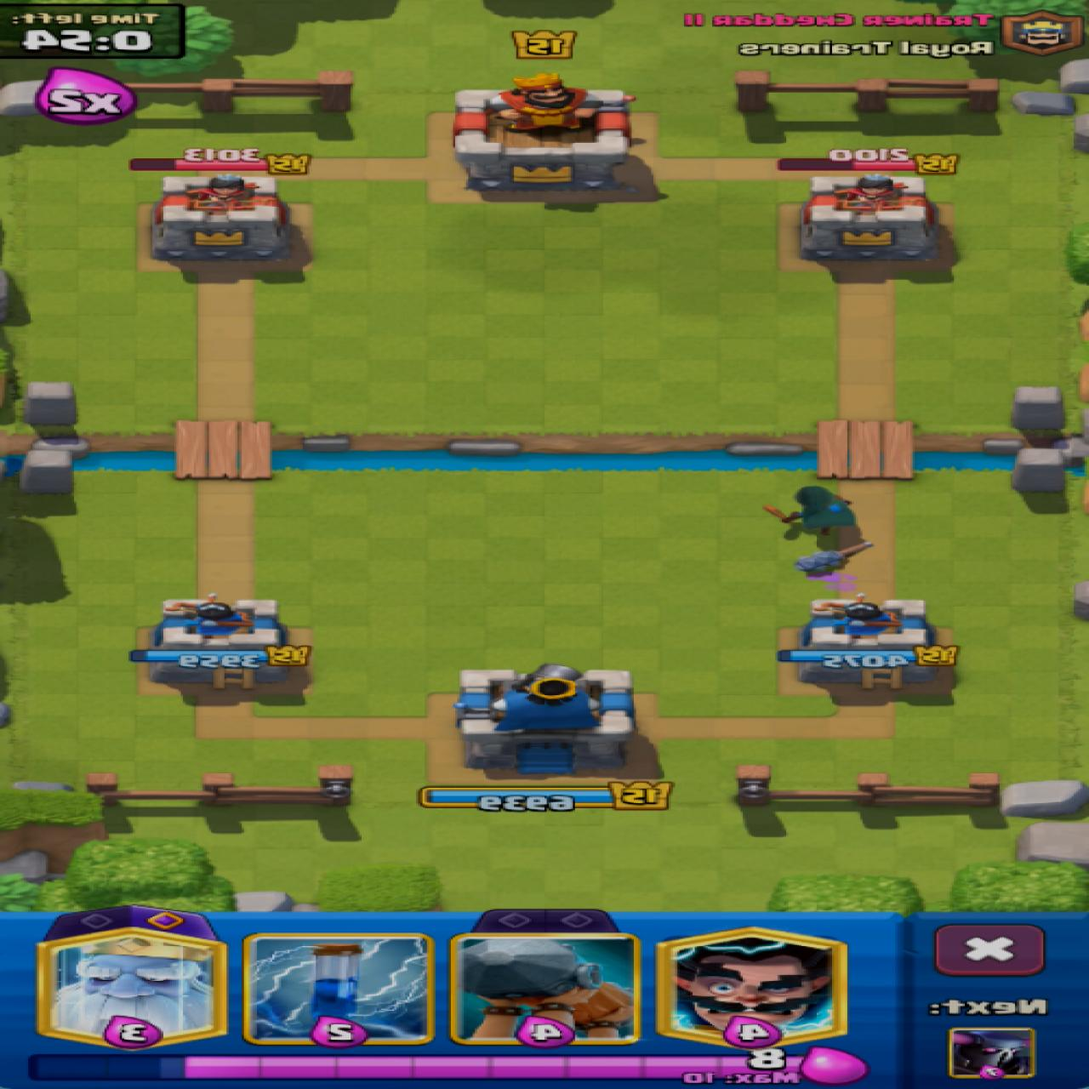Enemy-KingTower: (455, 75, 629, 194)
Enemy-PrincessTower: (152, 175, 292, 263), (802, 175, 939, 261)
